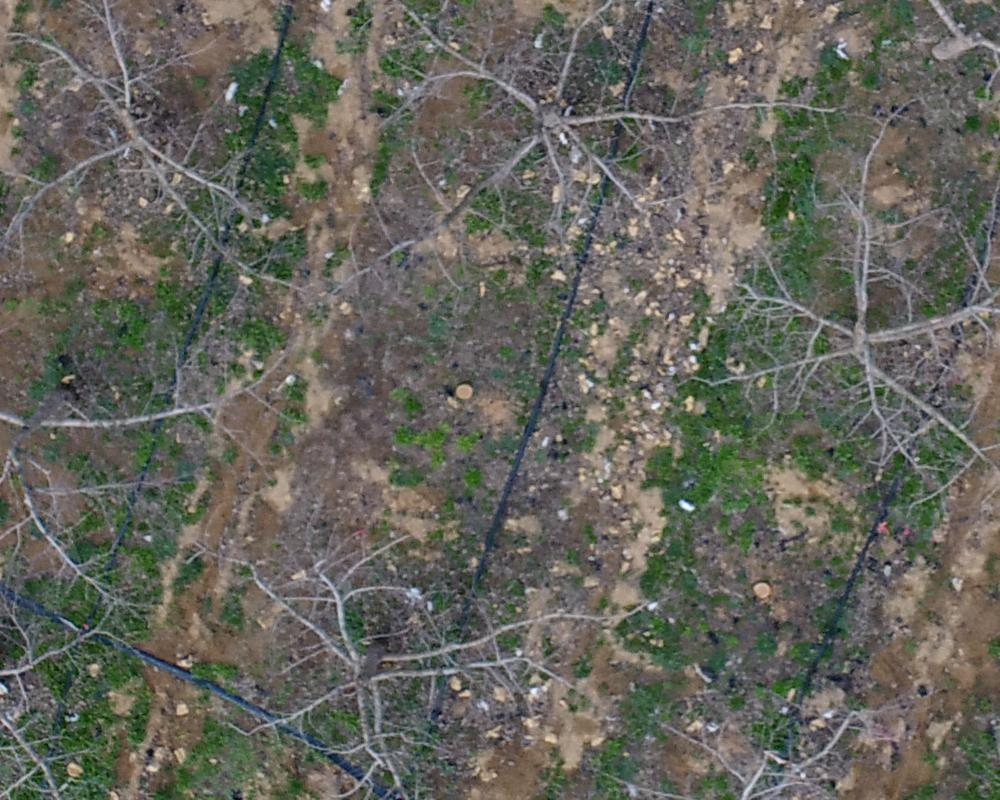apple: (343, 10, 844, 286), (695, 105, 990, 536), (183, 524, 655, 790), (10, 10, 323, 307), (10, 330, 296, 620)
